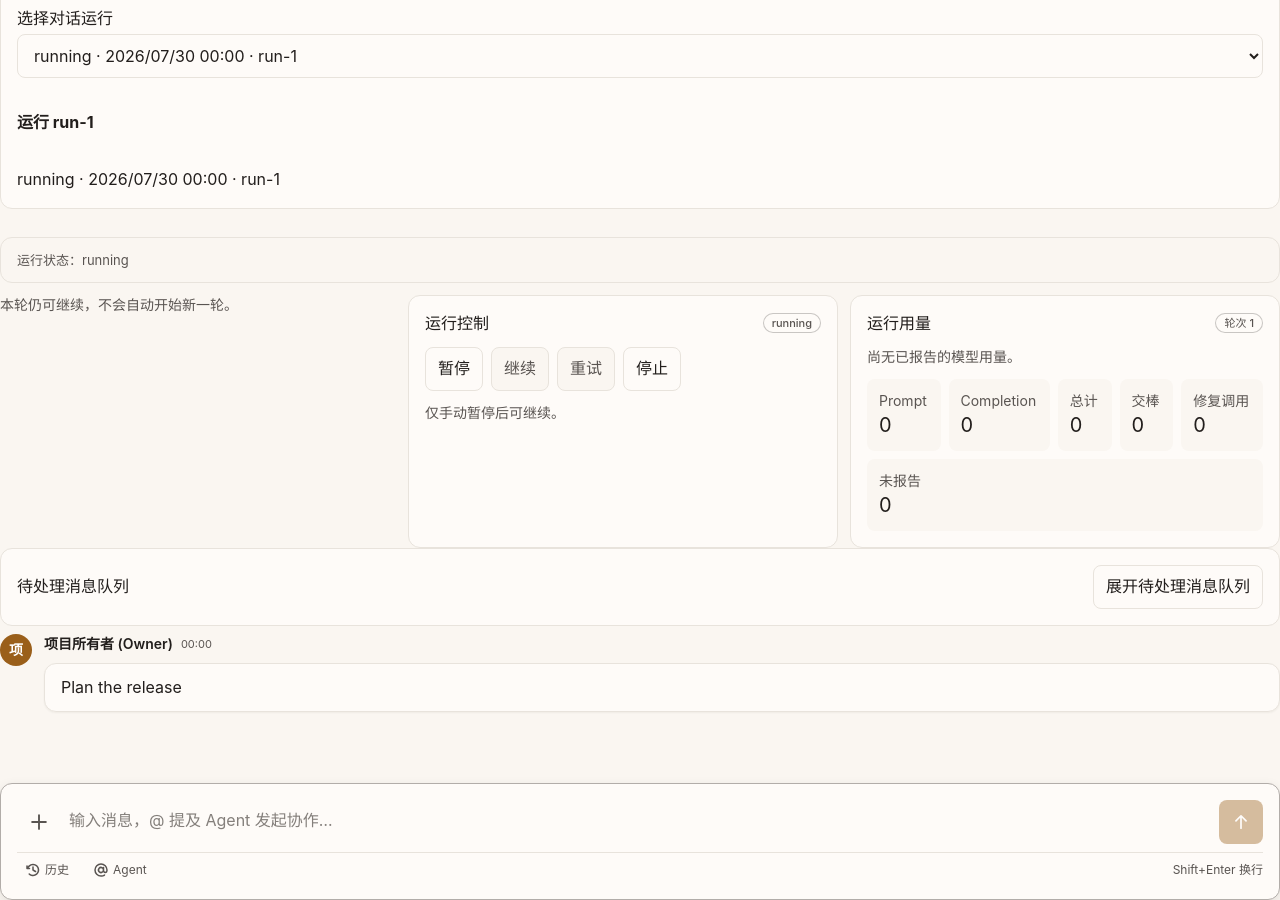
it: input history panel › searches with the submitted keyword and shows an empty state without matches
(page scrolled)
Expected: the text box named "发送给项目对话" is shown, [69,800,1211,844]
Click the button with aria-label "输入历史" at (47, 870), box [17,857,77,883]
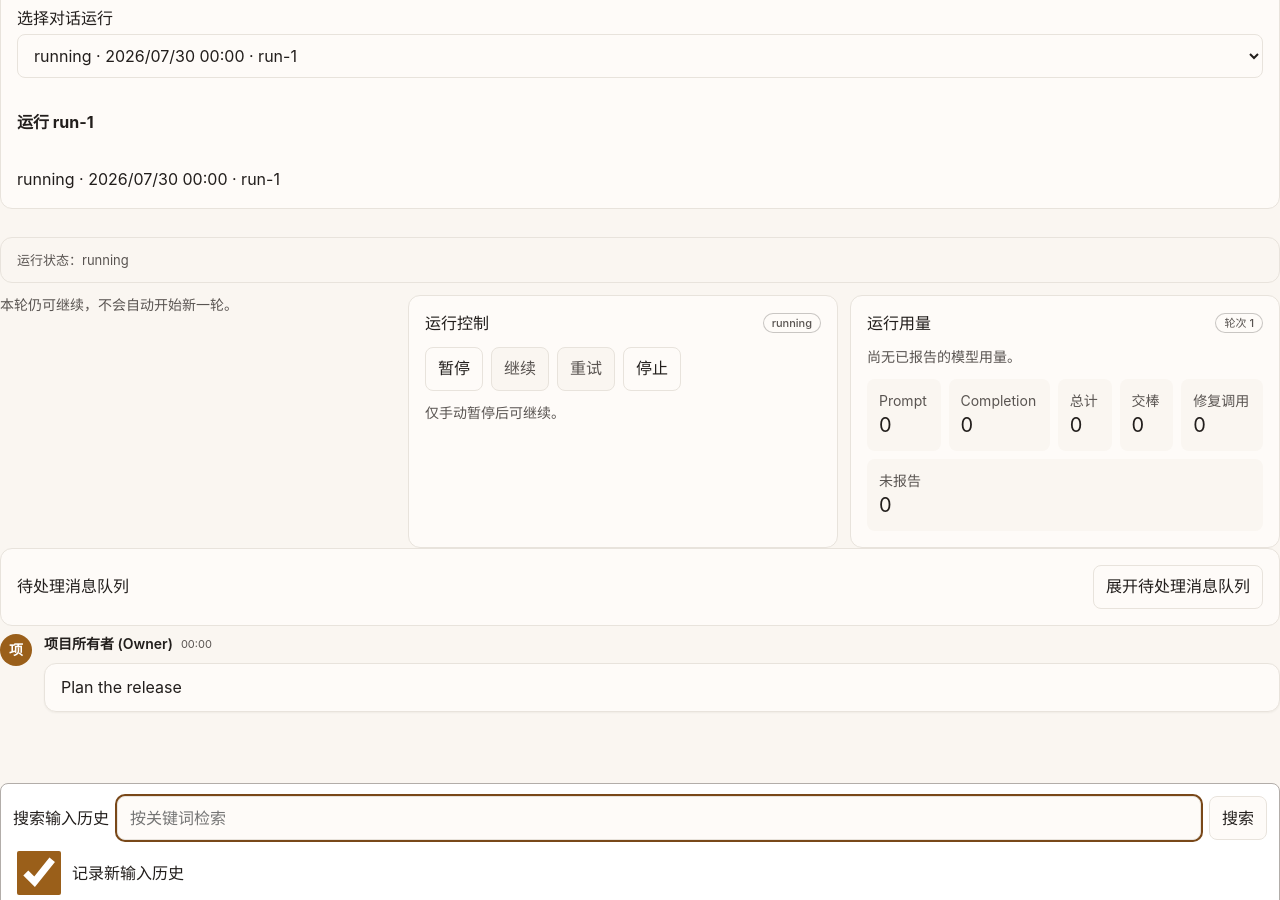
Type "release" into the field labelled "搜索输入历史" at (659, 818), box [117,796,1201,840]
Then press Enter
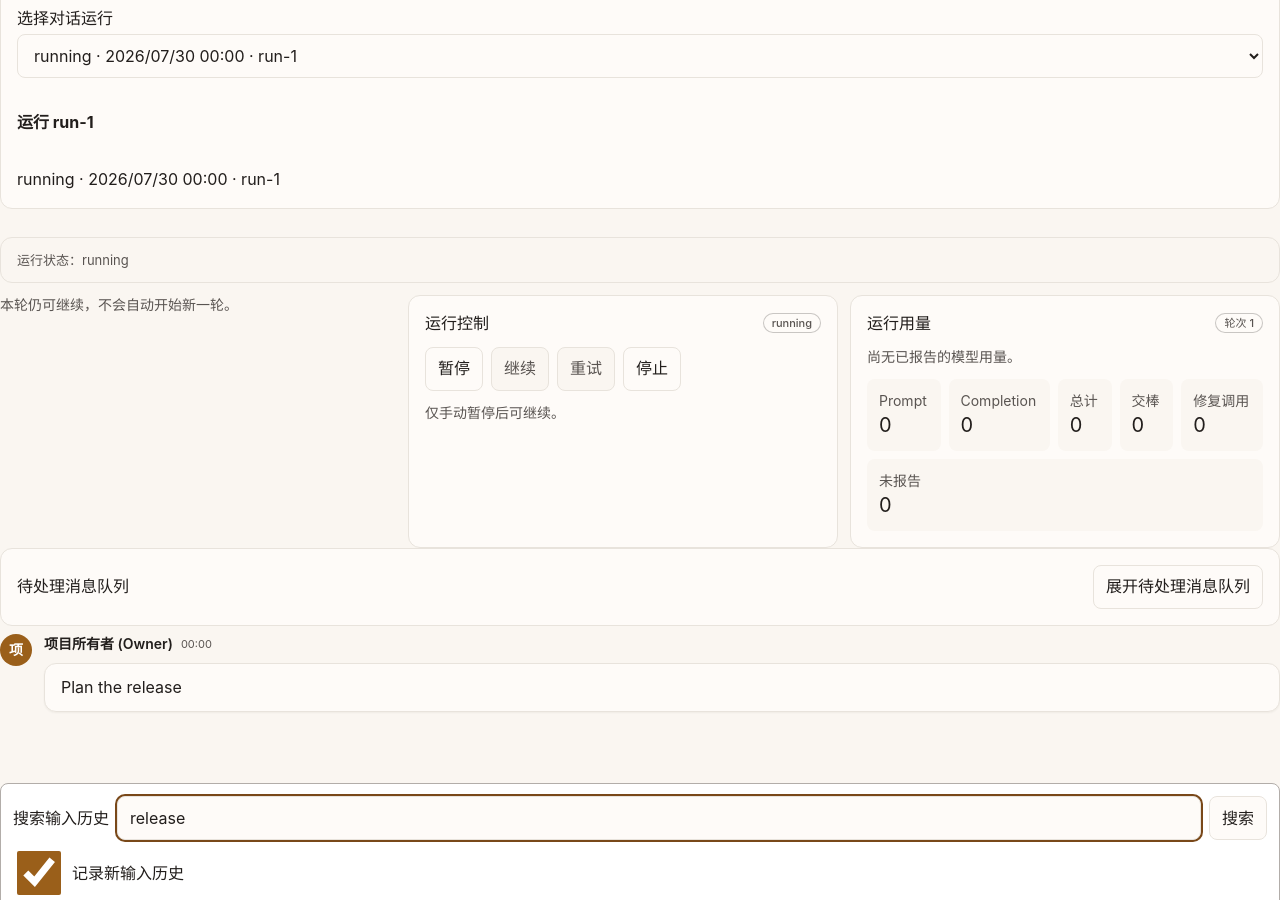
Replace the text in the field labelled "搜索输入历史" with "没有命中" at (659, 818), box [117,796,1201,840]
Then press Enter
(page scrolled)
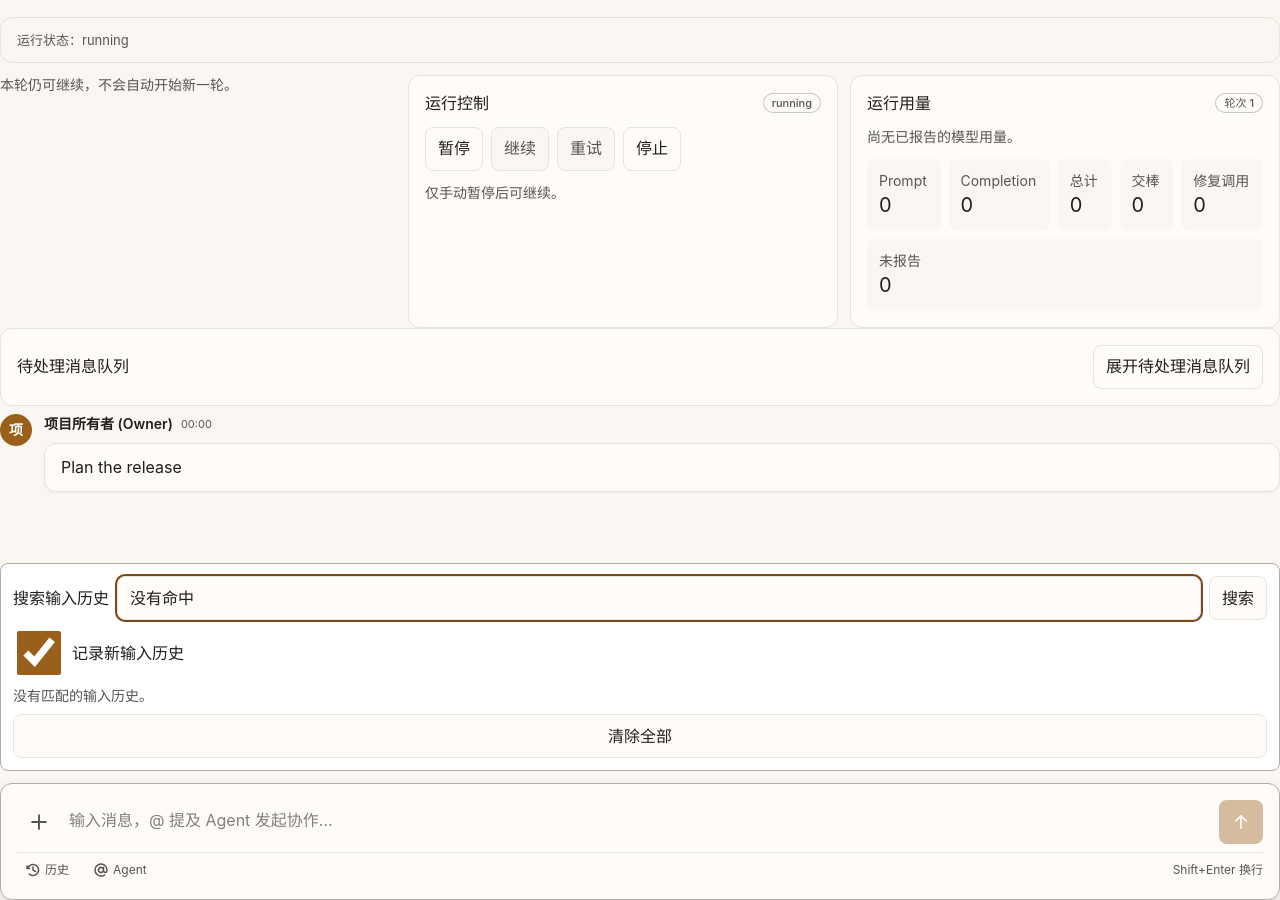
Now the text "没有匹配的输入历史。" is shown, box [13,687,153,704]
